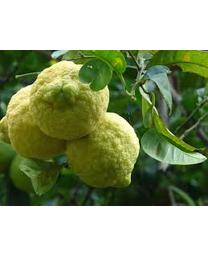lemon: (32, 58, 111, 139), (65, 111, 140, 188), (1, 83, 63, 161)
